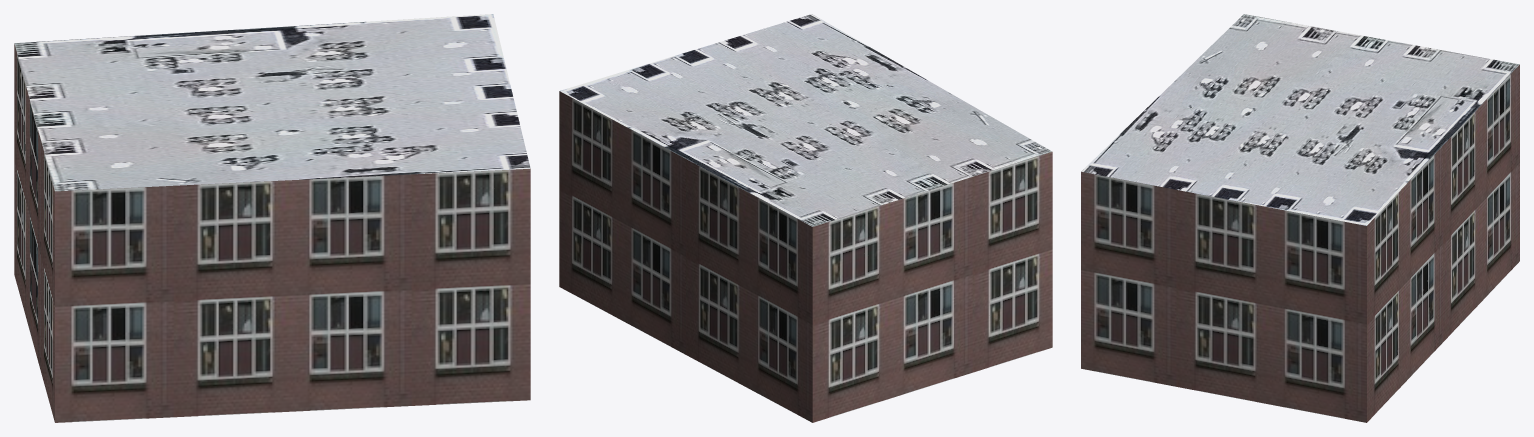
Rendered from ResTex__884.fbx.
3 renders of one model, left to right at view 1: azimuth 30°, elevation 25°; view 2: azimuth 150°, elevation 25°; view 3: azimuth 270°, elevation 25°, orthographic. The views are drawn at different scales.
Visible parts, largest first — view 1: CityEngineMaterial_12_m, CityEngineMaterial_4_m; view 2: CityEngineMaterial_12_m, CityEngineMaterial_4_m; view 3: CityEngineMaterial_12_m, CityEngineMaterial_4_m.
Boxes of the visible parts, bbox=[...] form: CityEngineMaterial_12_m: bbox=[14, 44, 530, 422]; CityEngineMaterial_4_m: bbox=[14, 14, 530, 191]; CityEngineMaterial_12_m: bbox=[559, 91, 1052, 422]; CityEngineMaterial_4_m: bbox=[560, 14, 1052, 226]; CityEngineMaterial_12_m: bbox=[1081, 64, 1519, 422]; CityEngineMaterial_4_m: bbox=[1081, 14, 1519, 225].
Size of the model in its own units: 13.85 by 6 by 12.11.
2 materials, 2 textured.
